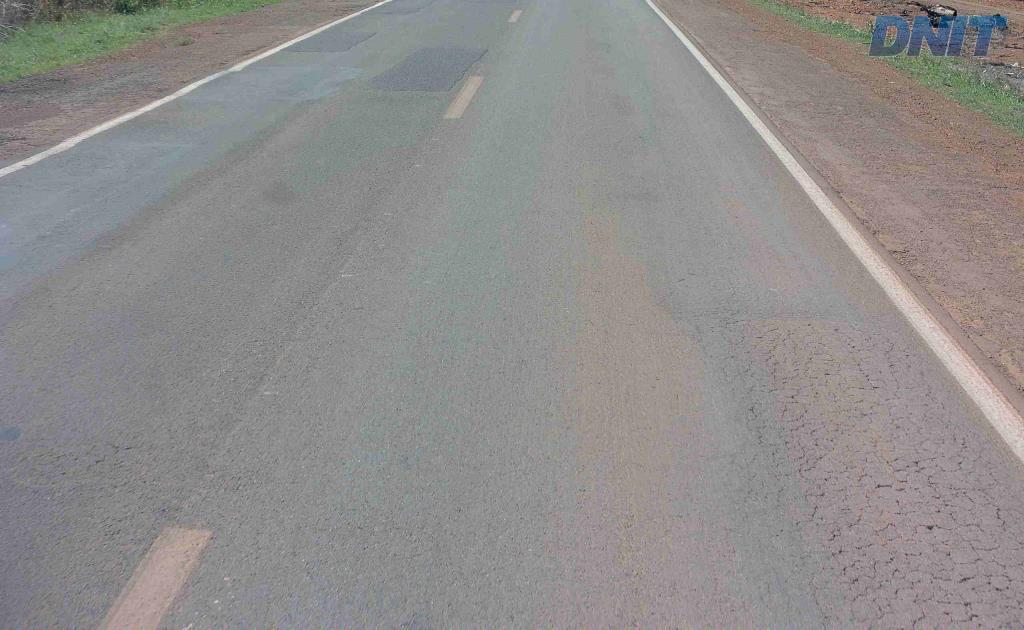crack: (849, 557, 892, 605)
